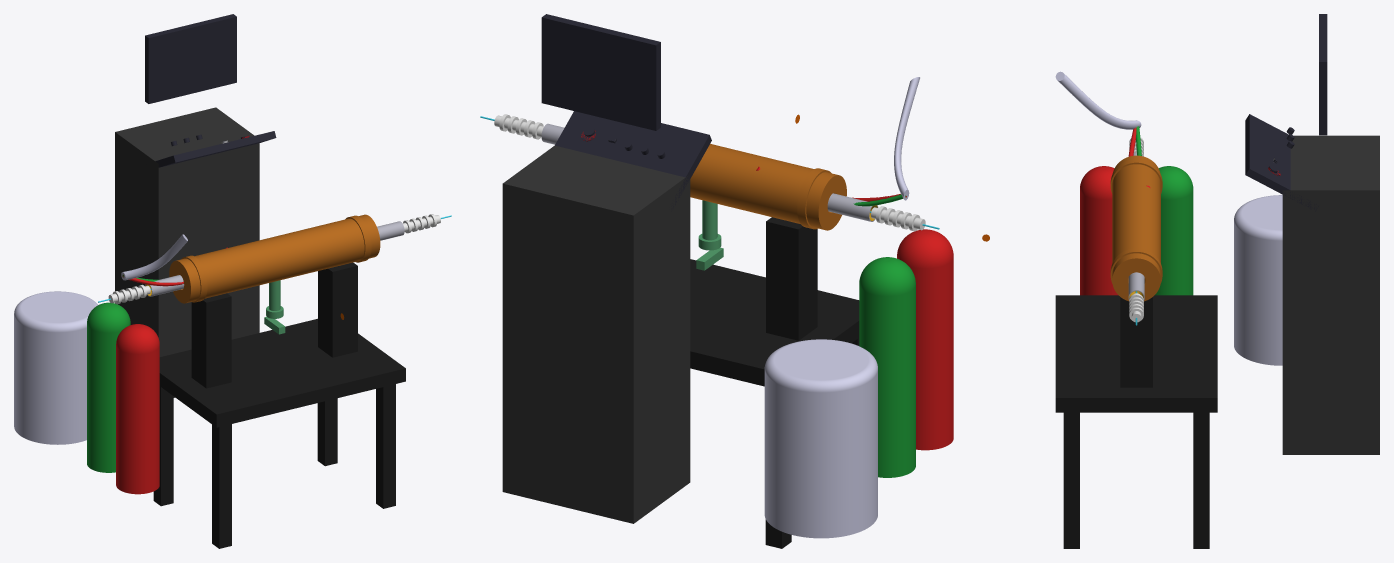
File: orbitron_lab_floor.gltf
3 renders of one model, left to right at view 1: azimuth 30°, elevation 25°; view 2: azimuth 150°, elevation 25°; view 3: azimuth 270°, elevation 25°, orthographic. The views are drawn at different scales.
Parts seen in each view (by area): view 1: Optical_Table, Equipment_Rack, Cryo_Methane_Dewar, YBCO_Magnet, Control_Panel, Tank_H2_Gas, Tank_Diborane_Gas, Ceramic_Feedthroughs, Anode_Shell, Neutral_Beam_Injector, Methane_Line; view 2: Equipment_Rack, Cryo_Methane_Dewar, Optical_Table, Control_Panel, Tank_Diborane_Gas, Tank_H2_Gas, YBCO_Magnet, Ceramic_Feedthroughs, Neutral_Beam_Injector, Anode_Shell, Methane_Line; view 3: Equipment_Rack, Optical_Table, Cryo_Methane_Dewar, YBCO_Magnet, Tank_Diborane_Gas, Control_Panel, Tank_H2_Gas, Methane_Line, Ceramic_Feedthroughs.
Part boxes in pixels (box(x1,y1,x2,y2)): Optical_Table: box(153, 262, 405, 548); Equipment_Rack: box(115, 107, 259, 397); Cryo_Methane_Dewar: box(14, 291, 97, 444); YBCO_Magnet: box(169, 214, 380, 303); Control_Panel: box(145, 14, 276, 167); Tank_H2_Gas: box(116, 324, 159, 494); Tank_Diborane_Gas: box(87, 302, 130, 472); Ceramic_Feedthroughs: box(108, 214, 440, 304); Anode_Shell: box(145, 221, 404, 296); Neutral_Beam_Injector: box(264, 280, 285, 334); Methane_Line: box(121, 234, 187, 280); Equipment_Rack: box(502, 145, 690, 523); Cryo_Methane_Dewar: box(764, 339, 877, 538); Optical_Table: box(690, 217, 859, 548); Control_Panel: box(541, 14, 711, 211); Tank_Diborane_Gas: box(859, 257, 915, 477); Tank_H2_Gas: box(897, 229, 953, 450); YBCO_Magnet: box(690, 143, 846, 230); Ceramic_Feedthroughs: box(494, 114, 925, 231); Neutral_Beam_Injector: box(696, 200, 723, 270); Anode_Shell: box(541, 123, 878, 221); Methane_Line: box(894, 77, 919, 200); Equipment_Rack: box(1282, 135, 1379, 454); Optical_Table: box(1055, 295, 1217, 548); Cryo_Methane_Dewar: box(1234, 195, 1282, 365); YBCO_Magnet: box(1110, 155, 1162, 301); Tank_Diborane_Gas: box(1155, 166, 1193, 295); Control_Panel: box(1245, 14, 1327, 211); Tank_H2_Gas: box(1080, 166, 1117, 295); Methane_Line: box(1055, 71, 1141, 129); Ceramic_Feedthroughs: box(1129, 137, 1143, 322).
Size of the model in its own units: 2.9 by 3.15 by 2.45.
